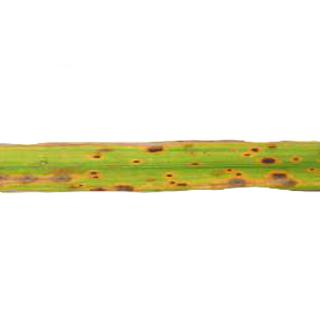bercak-Cokelat: (240, 140, 282, 168), (268, 170, 302, 190), (164, 168, 188, 193), (139, 142, 171, 160), (89, 144, 119, 162), (218, 163, 243, 180), (112, 178, 142, 191), (82, 167, 104, 183), (188, 157, 202, 170)
